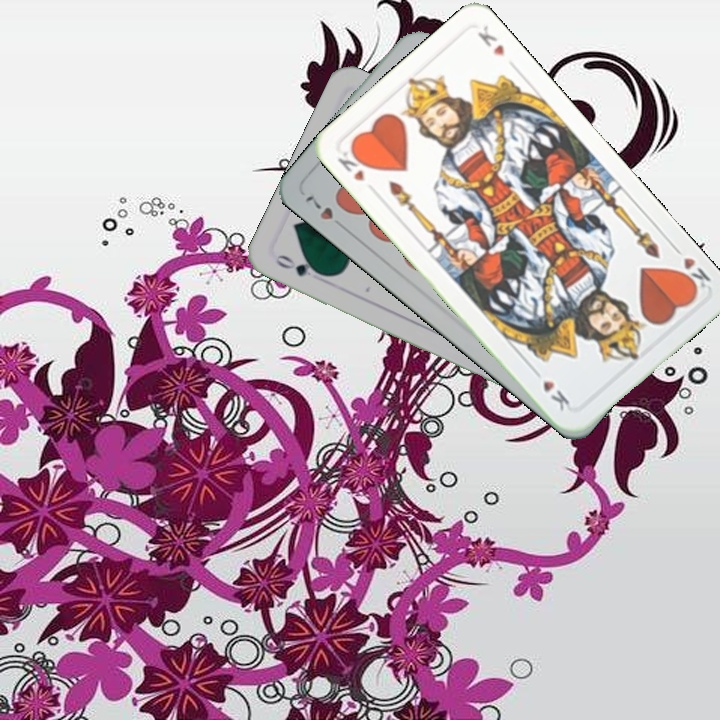GO: (271, 250, 328, 279)
H7: (300, 189, 349, 233)
HK: (672, 253, 713, 295), (333, 143, 372, 184)
